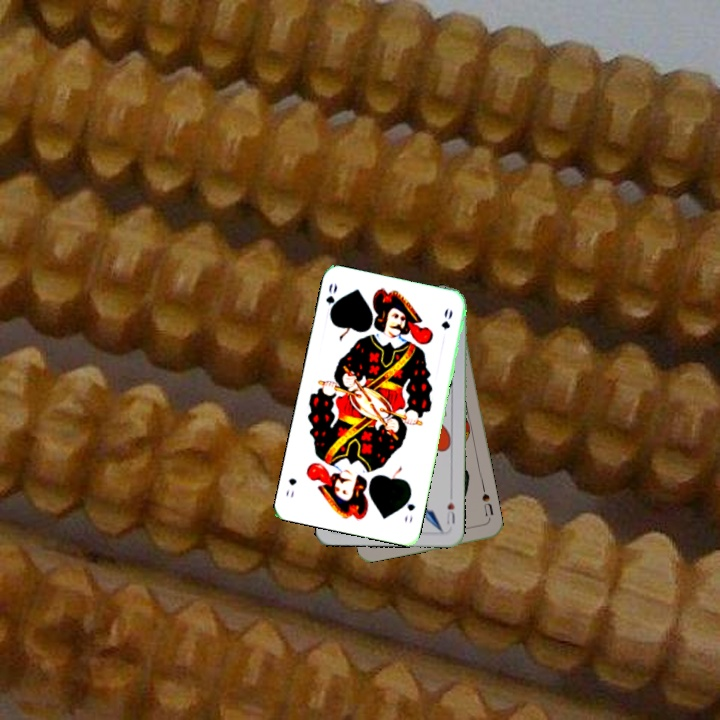GO: (322, 279, 341, 320), (400, 489, 418, 525)
HU: (442, 498, 458, 527)
SU: (478, 489, 496, 519)
